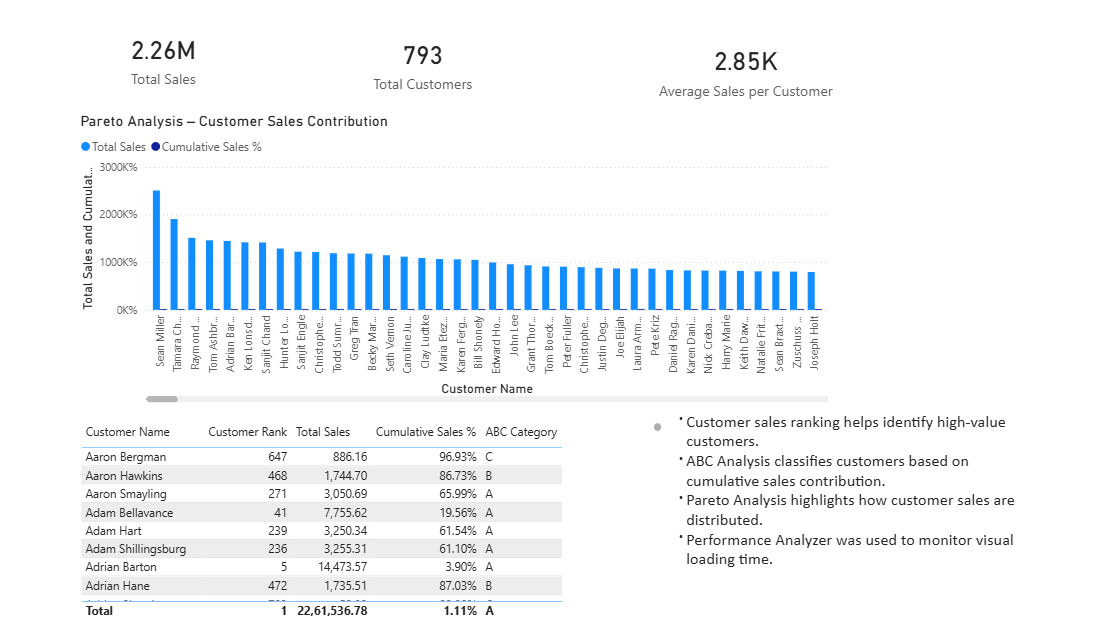

What the dashboard file says about the page in this screenshot:
{"tool":"powerbi","page":{"name":"Task 5","canvas":[1280,720],"ordinal":3},"visuals":[{"type":"tableEx","fields":{"Values":["train.Customer Name","Analysis.Customer Rank","train.Total Sales","Analysis.Cumulative Sales %","Analysis.ABC Category"]},"box":[91.2,486.1,672.8,233.8],"z":0},{"type":"card","fields":{"Values":["train.Total Customers"]},"box":[323.6,24.2,326.4,112.6],"z":1},{"type":"card","fields":{"Values":["train.Total Sales"]},"box":[14.3,24.2,353.5,101.2],"z":2},{"type":"card","fields":{"Values":["Analysis.Average Sales per Customer"]},"box":[685.6,24.2,339.2,126.9],"z":3},{"type":"lineClusteredColumnComboChart","title":"Pareto Analysis – Customer Sales Contribution","fields":{"Category":["train.Customer Name"],"Y":["train.Total Sales","Analysis.Cumulative Sales %"]},"box":[91.2,136.8,863.8,336.4],"z":4},{"type":"textbox","box":[764,473.2,420.5,209.5],"z":5}]}

Visuals, with their boxes in screenshot pixels (x1, y1, x2, y2), scaled from the page's 1280x720 canvas onto the 1116x621 screenshot:
tableEx - train.Customer Name x Analysis.Customer Rank: crop(80, 419, 666, 620)
card - train.Total Customers: crop(282, 21, 567, 118)
card - train.Total Sales: crop(12, 21, 321, 108)
card - Analysis.Average Sales per Customer: crop(598, 21, 893, 130)
"Pareto Analysis – Customer Sales Contribution" lineClusteredColumnComboChart: crop(80, 118, 833, 408)
textbox: crop(666, 408, 1033, 589)
